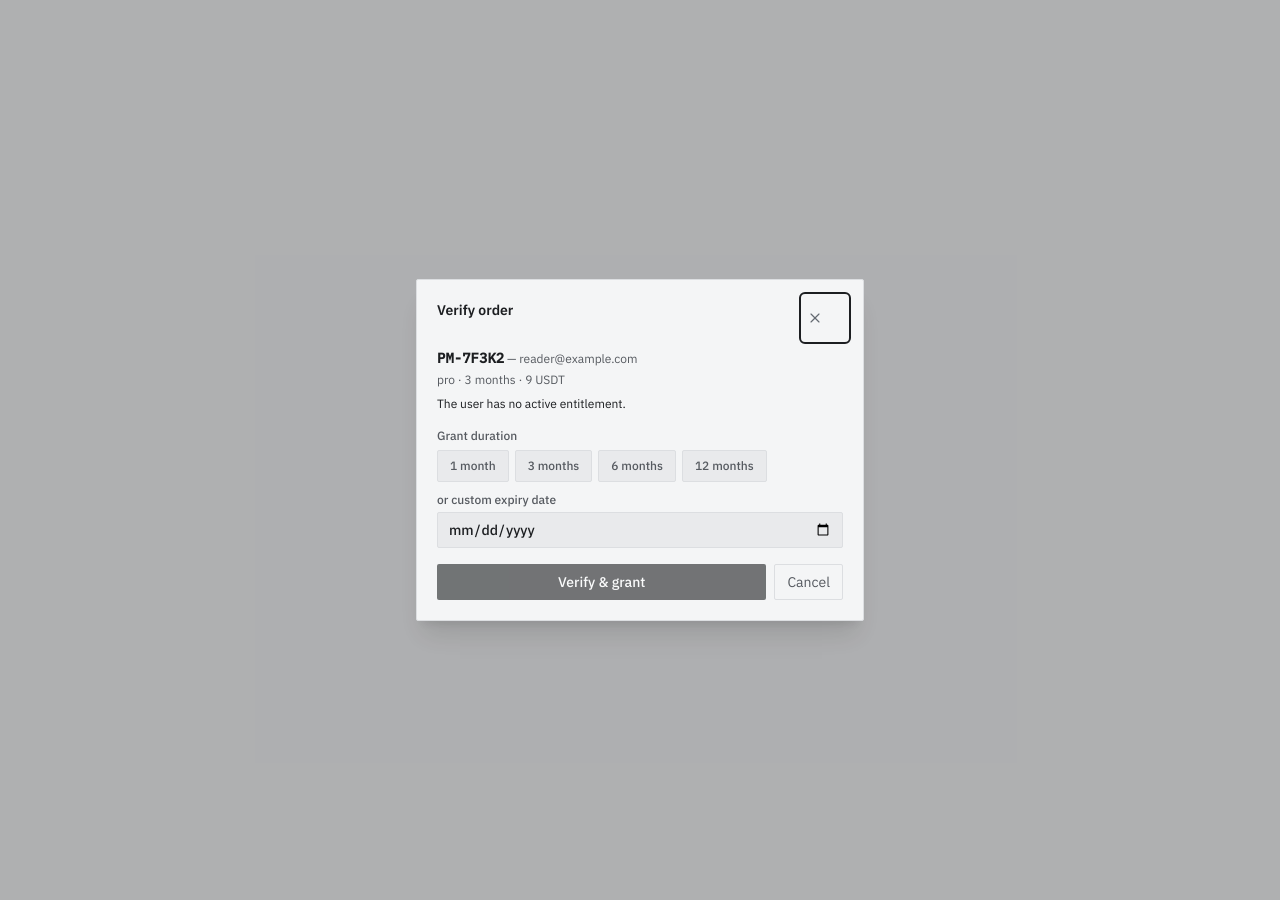
Test: shows the server’s error and stays open on failure
This screenshot has width=1280, height=900.
Click the button with test id "duration-1" at (473, 466), box [437, 450, 509, 482]
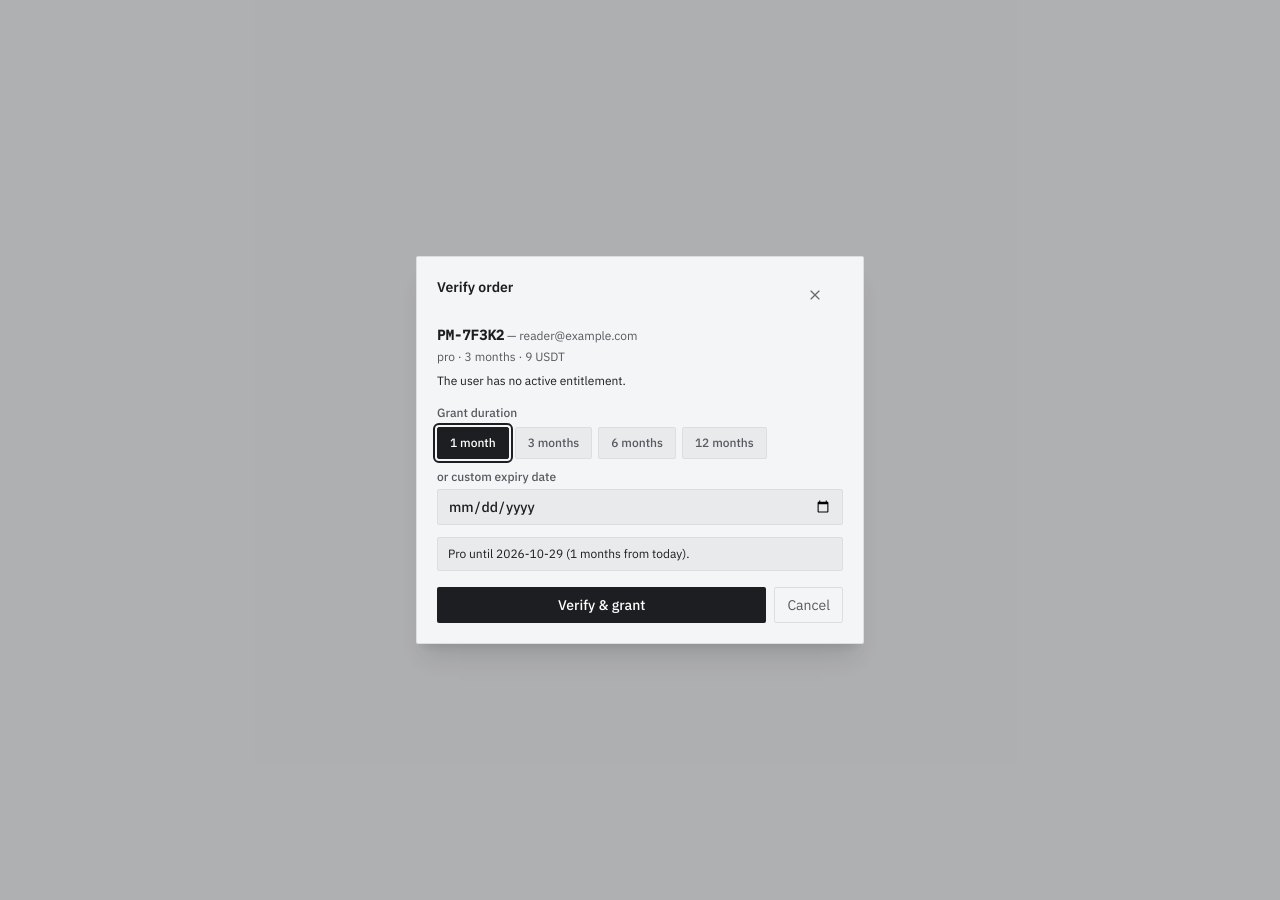
Click the button with test id "confirm-verify" at (602, 605), box [437, 587, 766, 623]
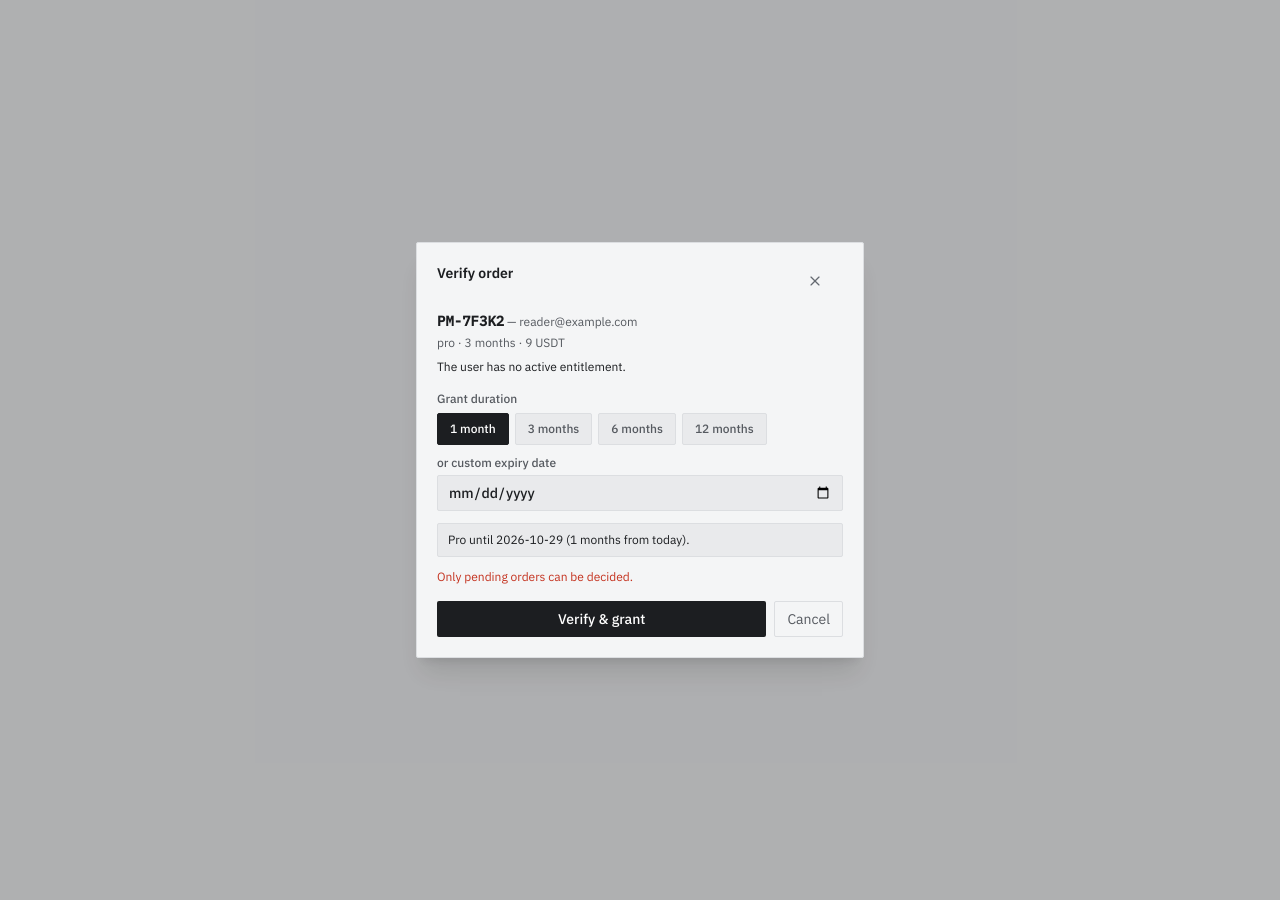
Check: the message reads "Only pending orders can be decided.", box [437, 569, 633, 584]
